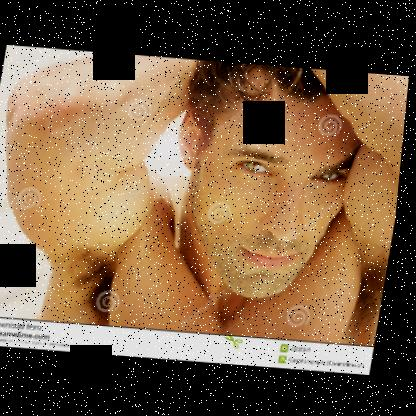Male: (158, 73, 385, 305)
